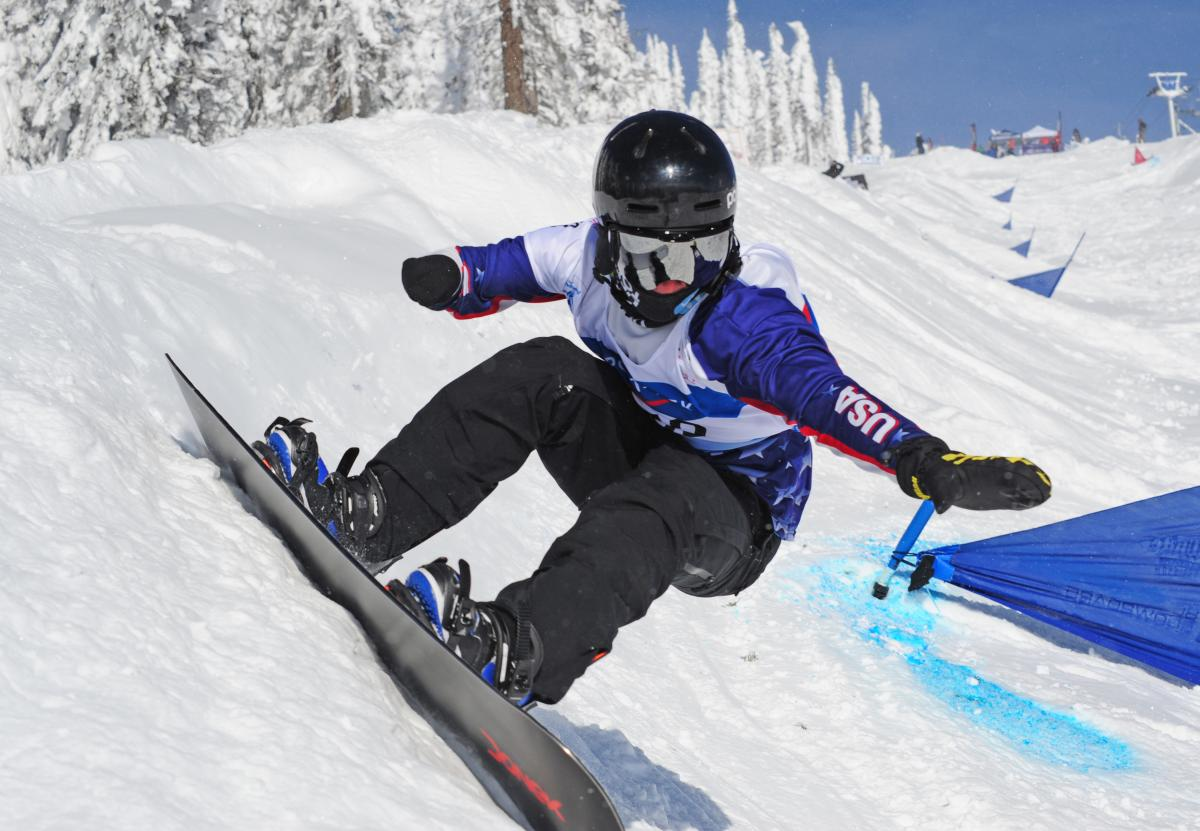snowboarder: (166, 98, 1053, 829)
